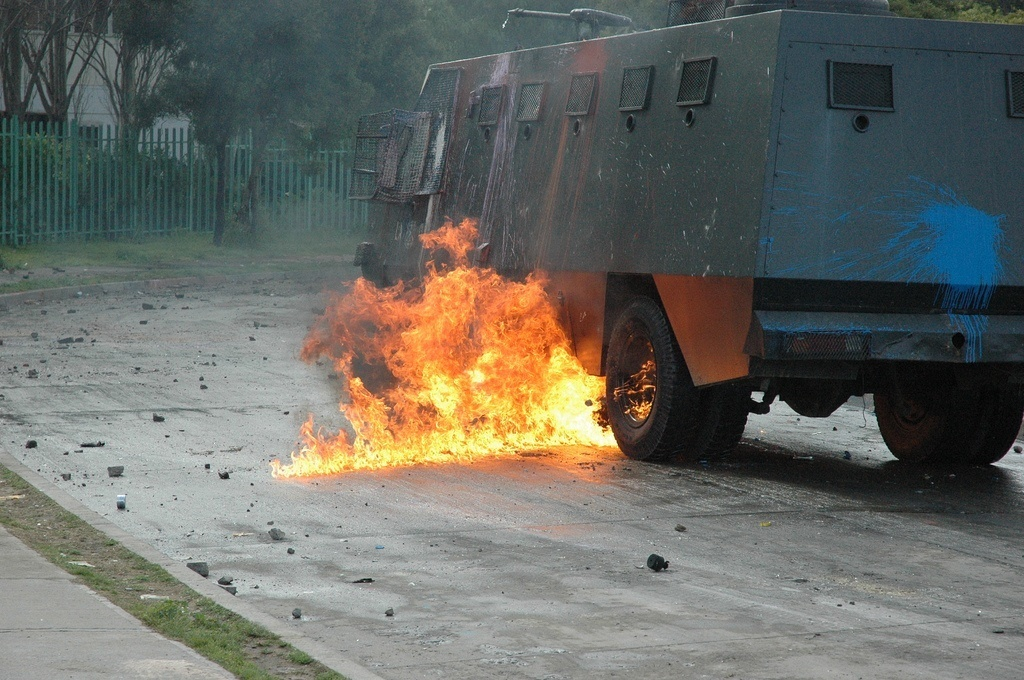fire: (270, 227, 622, 476)
